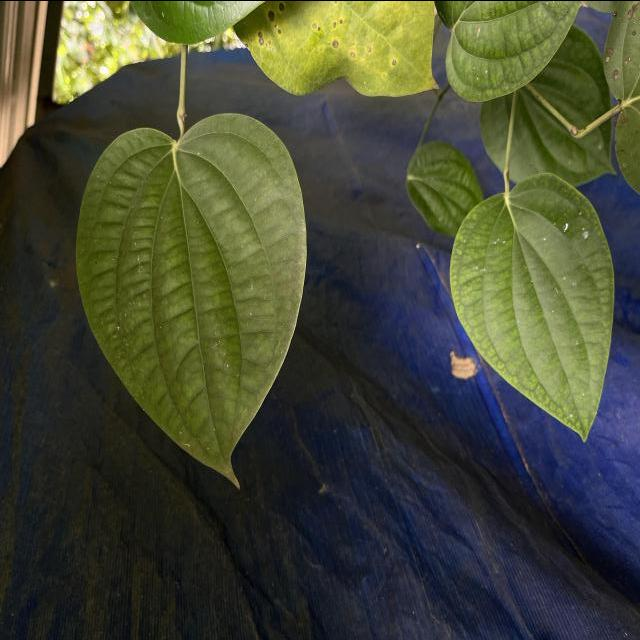Piper nigrum: (73, 109, 310, 492), (448, 170, 616, 446)
